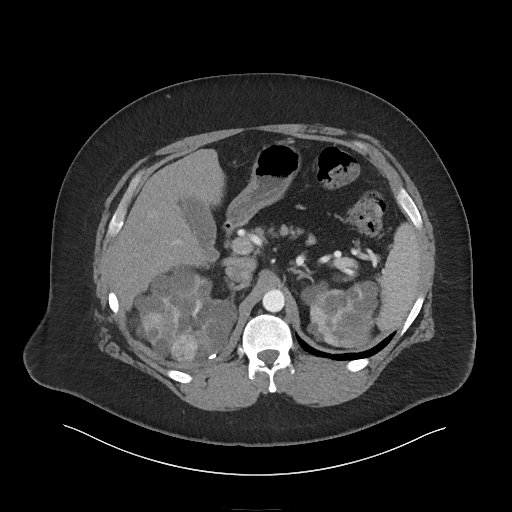Lesion: (169, 334, 198, 364)
